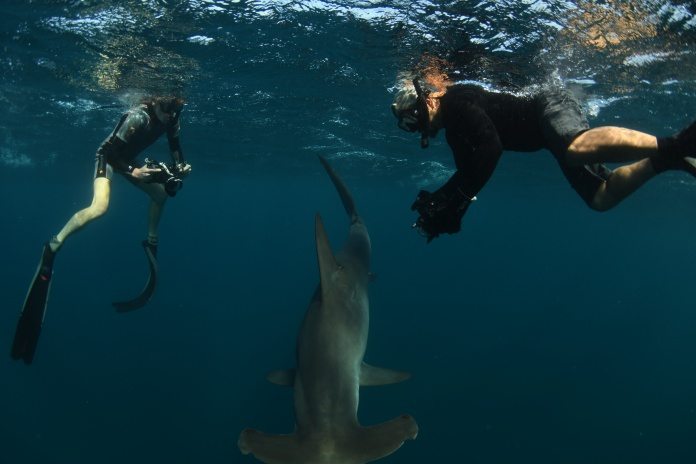Hammer: (223, 135, 441, 464)
